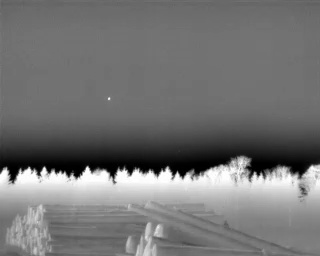BIRD: (106, 94, 113, 103)
